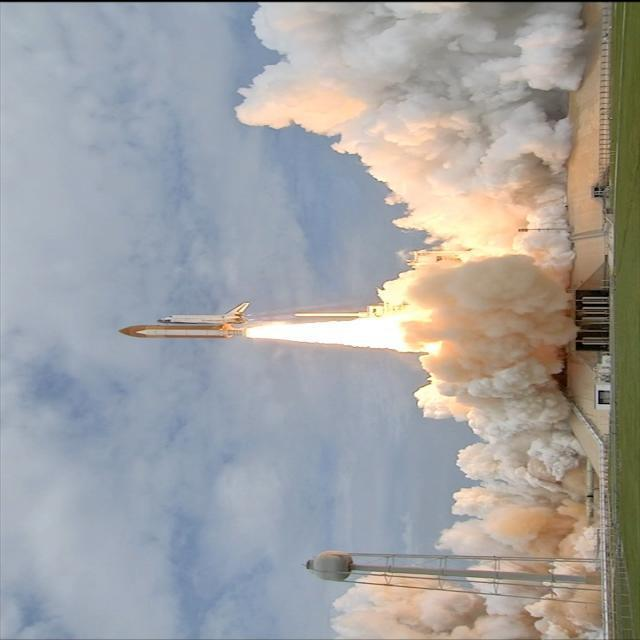missile: (124, 303, 249, 345)
